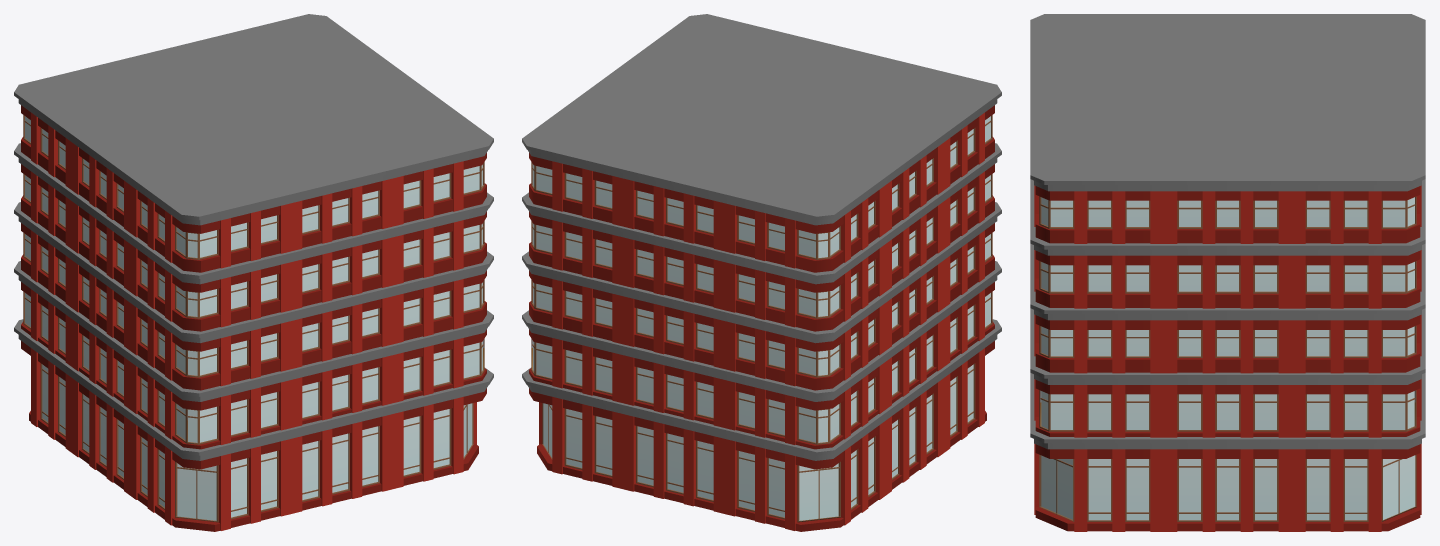
The picture shows the model from 3 angles, left to right: view 1: azimuth 30°, elevation 25°; view 2: azimuth 150°, elevation 25°; view 3: azimuth 270°, elevation 25°; orthographic projection. The views are drawn at different scales.
Visible parts, largest first — view 1: Building_14B; view 2: Building_14B; view 3: Building_14B.
Part boxes in pixels (x1=…): Building_14B: x1=14, y1=14, x2=493, y2=531; Building_14B: x1=522, y1=14, x2=1001, y2=531; Building_14B: x1=1030, y1=14, x2=1425, y2=531.
Bounding box in the file's own units: 34951 × 34372 × 34951.
